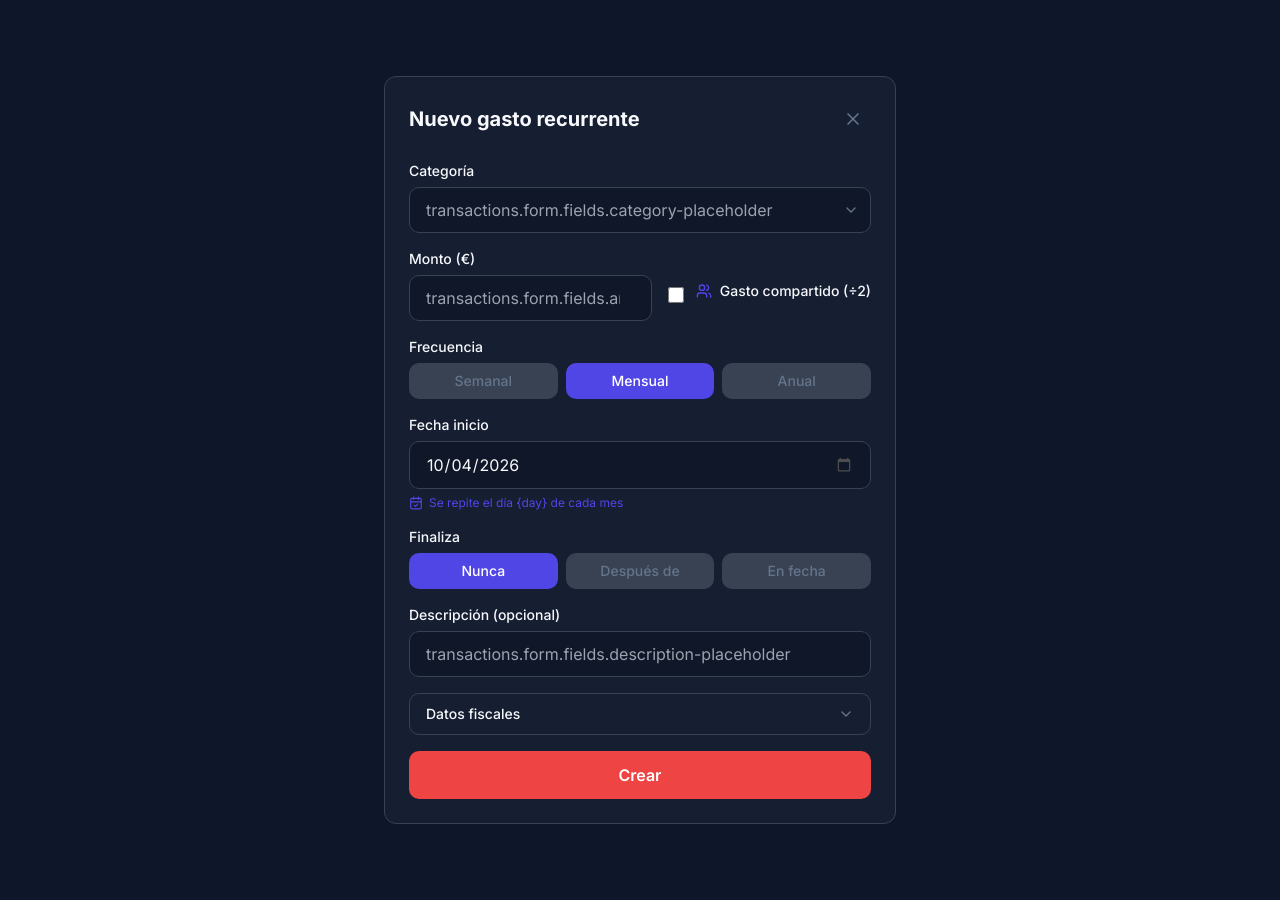
Test: RecurringExpenseForm — Create mode › should show occurrence count input when After is selected
Click the button "Después de": point(640, 571) [566,553,714,589]
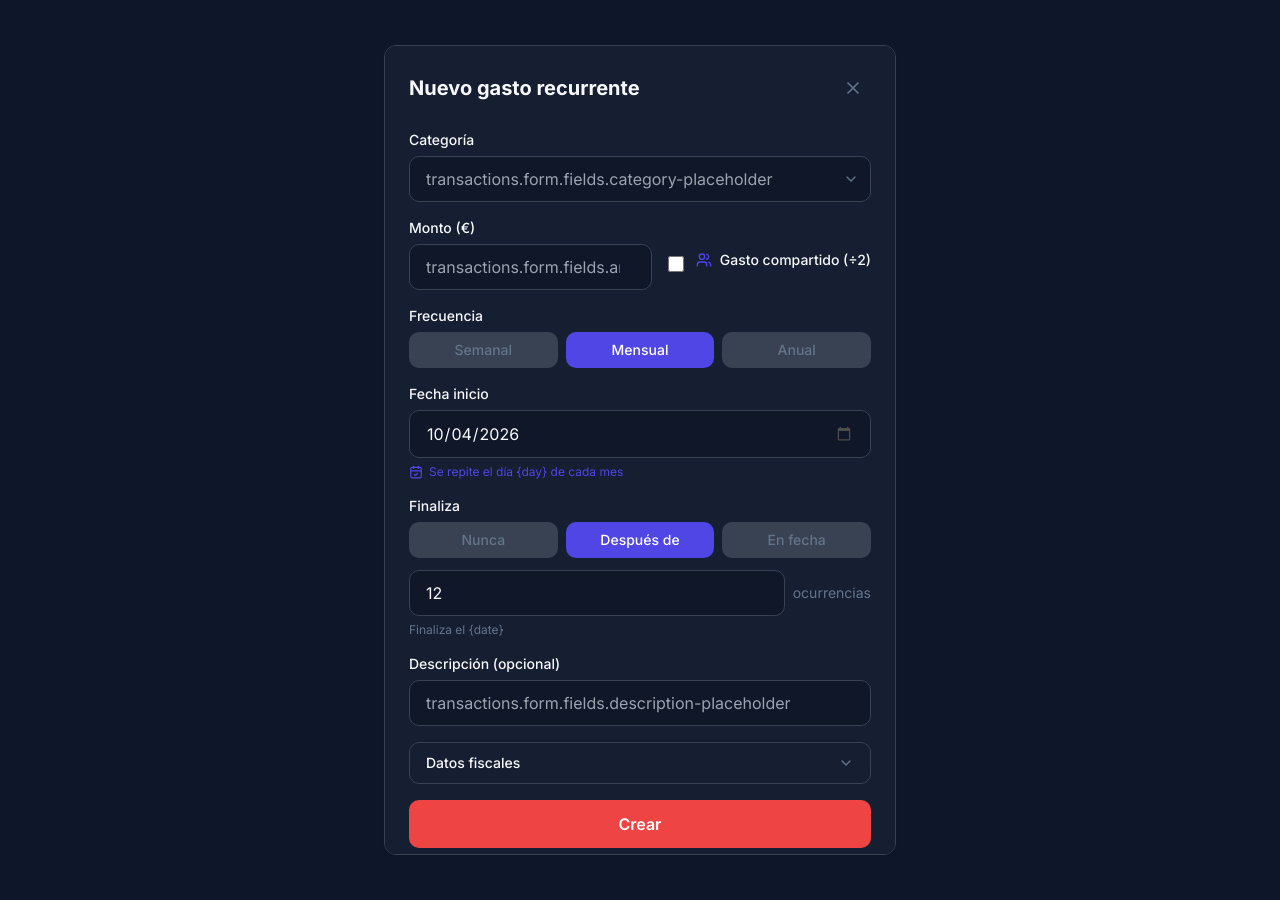
Result: the text "ocurrencias" is shown at [793,583,871,603]
